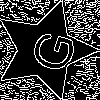G: (19, 25, 78, 76)
